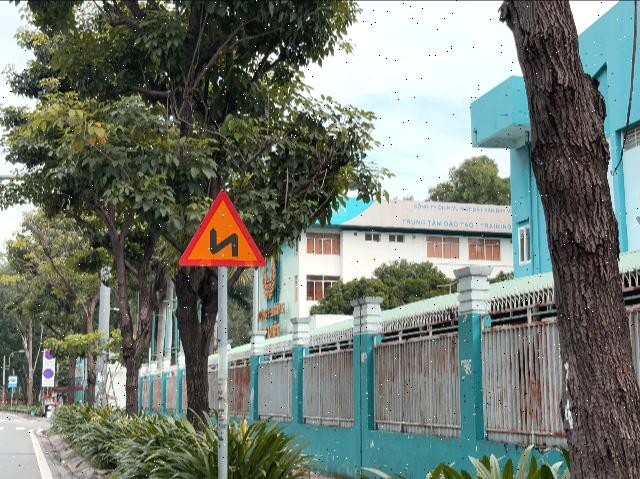nhieu-cho-ngoat-nguy-hiem-lien-tiep: (178, 189, 266, 266)
